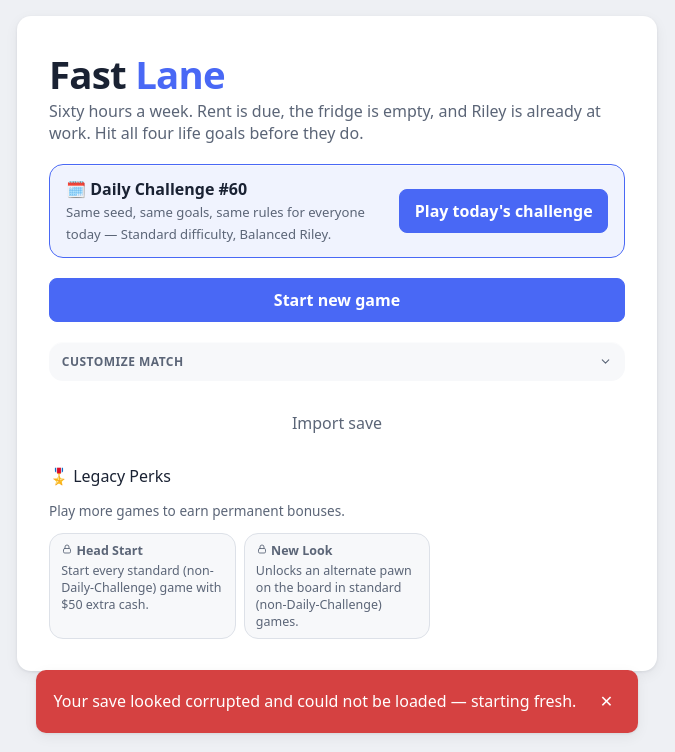
Test: save migration › dismisses the error toast via its own button, not just auto-timeout
The image size is (675, 752).
Expected: the message "Your save looked corrupted and could not be loaded — starting fresh. ✕" is shown, [36, 670, 638, 733]
What coordinates should you click on to do the following:
click the button named "Dismiss"
I would click on:
 (606, 701)
Its box is [584, 679, 628, 723].
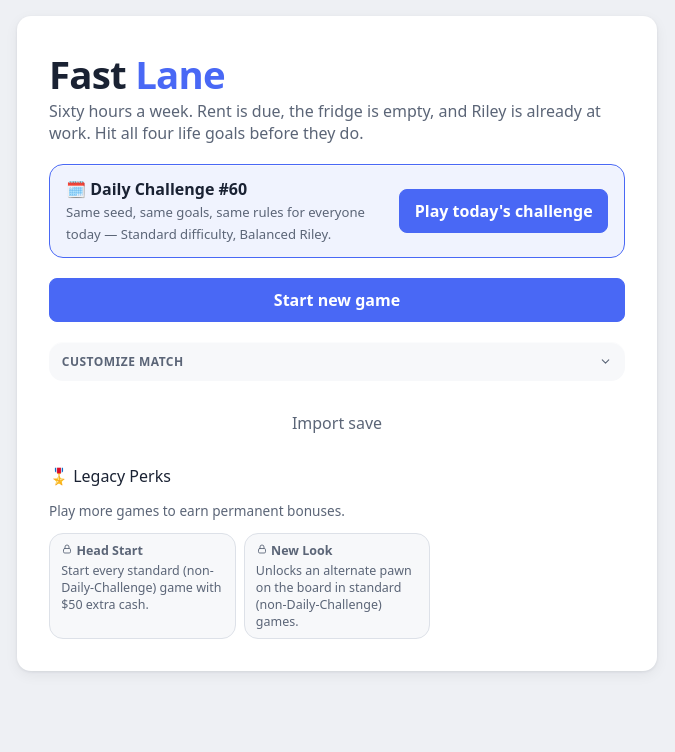
Now the message "Your save looked corrupted and could not be loaded — starting fresh. ✕" is gone
